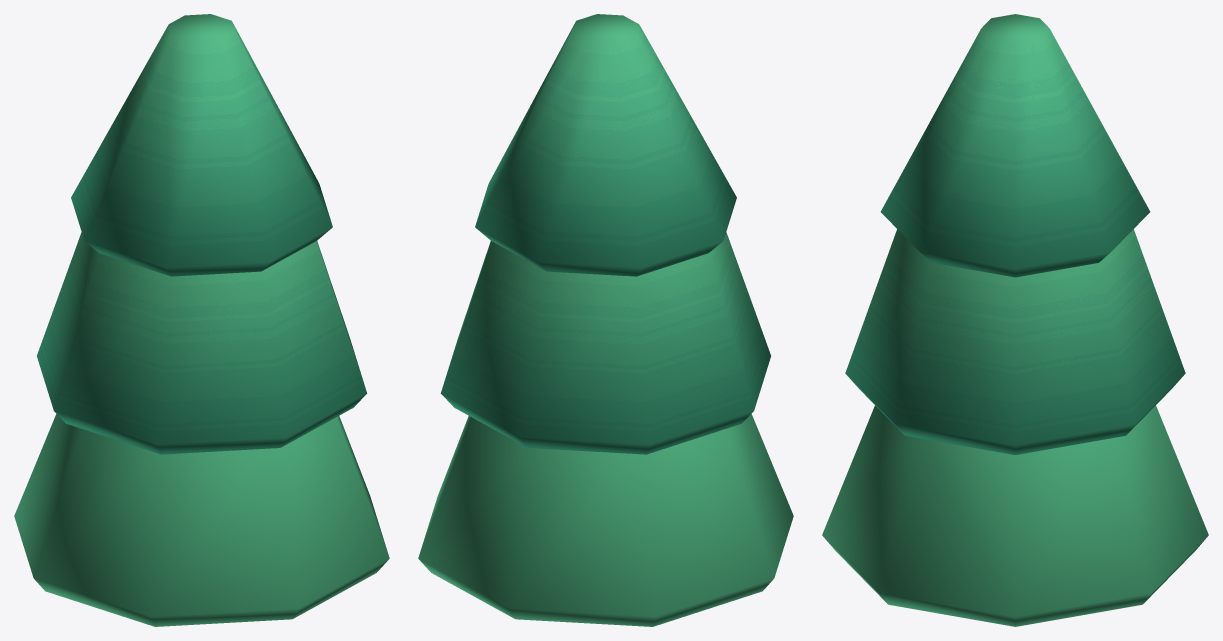
Rendered from tree-pine.glb.
3 renders of one model, left to right at view 1: azimuth 30°, elevation 25°; view 2: azimuth 150°, elevation 25°; view 3: azimuth 270°, elevation 25°, orthographic.
Visible parts, largest first — view 1: tree-pine; view 2: tree-pine; view 3: tree-pine.
Part boxes in pixels (left/top/right/bottom): tree-pine: left=14, top=14, right=389, bottom=626; tree-pine: left=418, top=14, right=793, bottom=626; tree-pine: left=822, top=14, right=1208, bottom=626.
Bounding box in the file's own units: 0.5575 × 0.8307 × 0.5575.
Materials: 1 (1 with a texture image).
